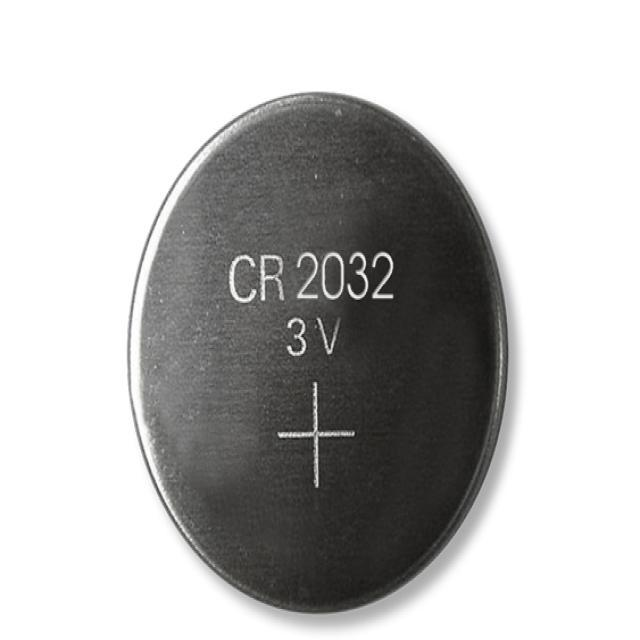COIN: (125, 89, 509, 614)
